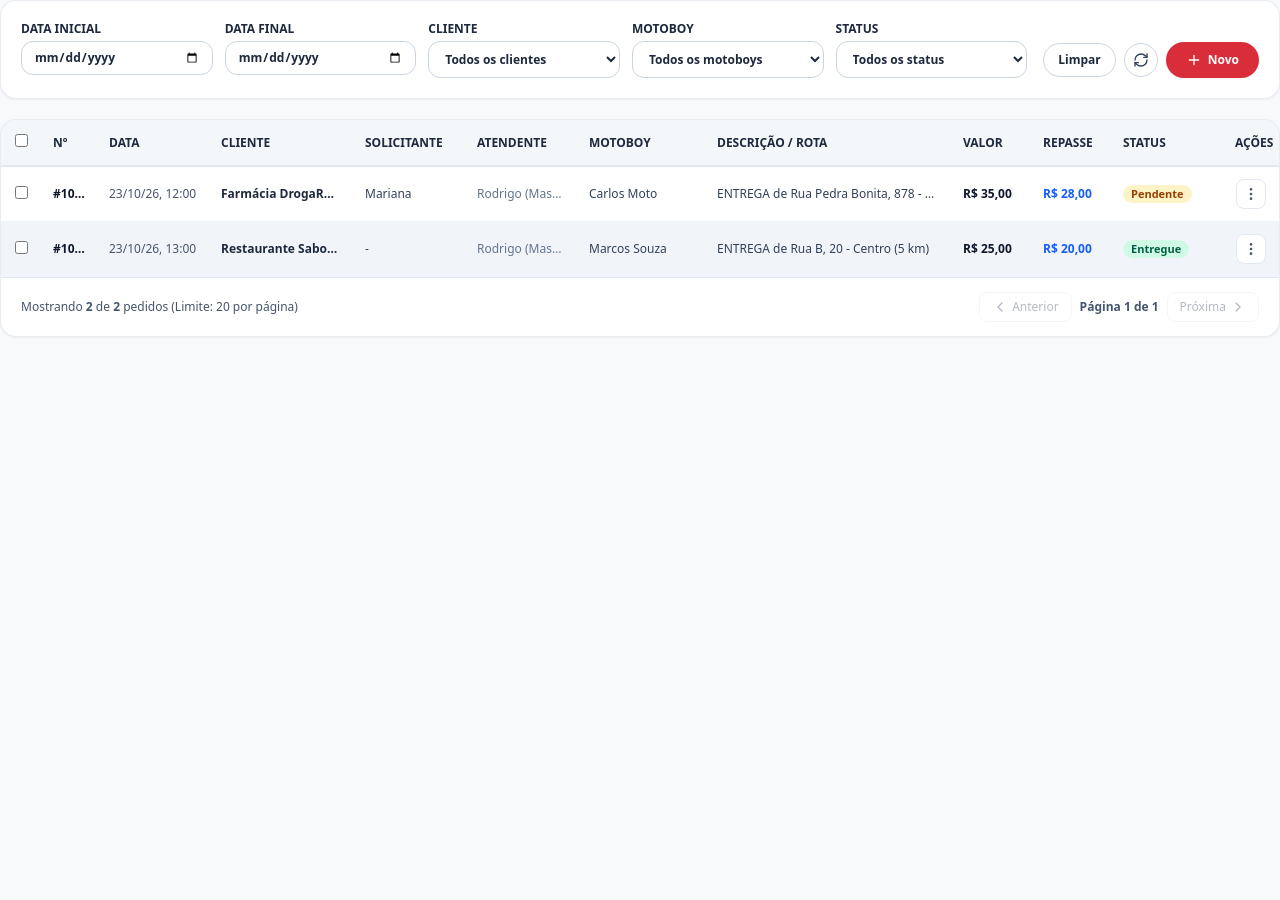
Test case: OrdersScreen › should render filters, display paginated orders with alternating white/gray rows, and separate Solicitante from Atendente in edit modal
The width and height of the screenshot is (1280, 900).
Expected: the text "#1001" is shown, x1=41 y1=166 x2=97 y2=222
Expected: the text "#1026" is shown, x1=41 y1=222 x2=97 y2=276
Click the 3-dots action button on #1026 (where requesterName is undefined)
Click the button with test id "order-actions-trigger-1".
click(1251, 249)  # box x1=1236 y1=234 x2=1266 y2=264
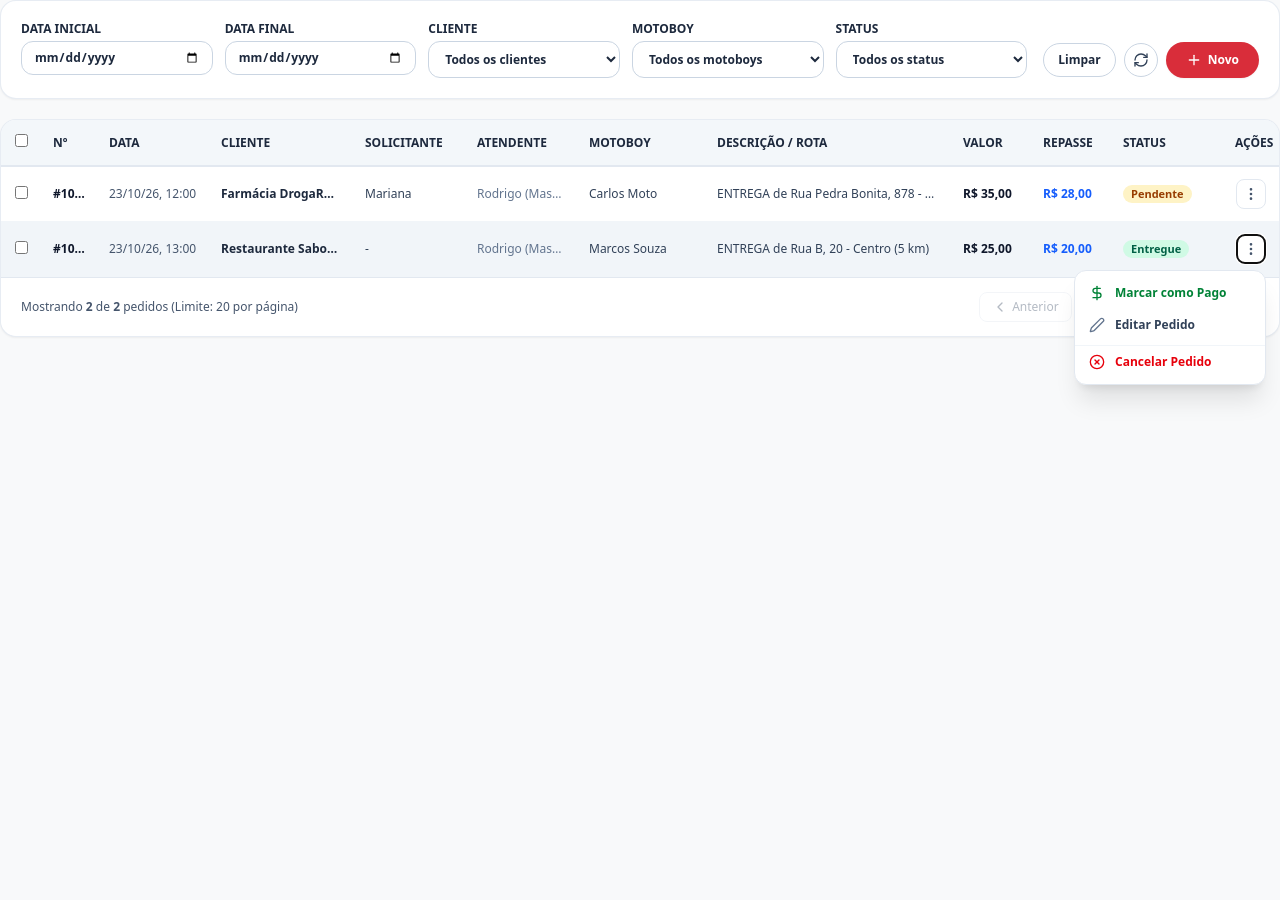
Click the button "Editar Pedido".
click(1170, 325)  # box x1=1075 y1=309 x2=1265 y2=341
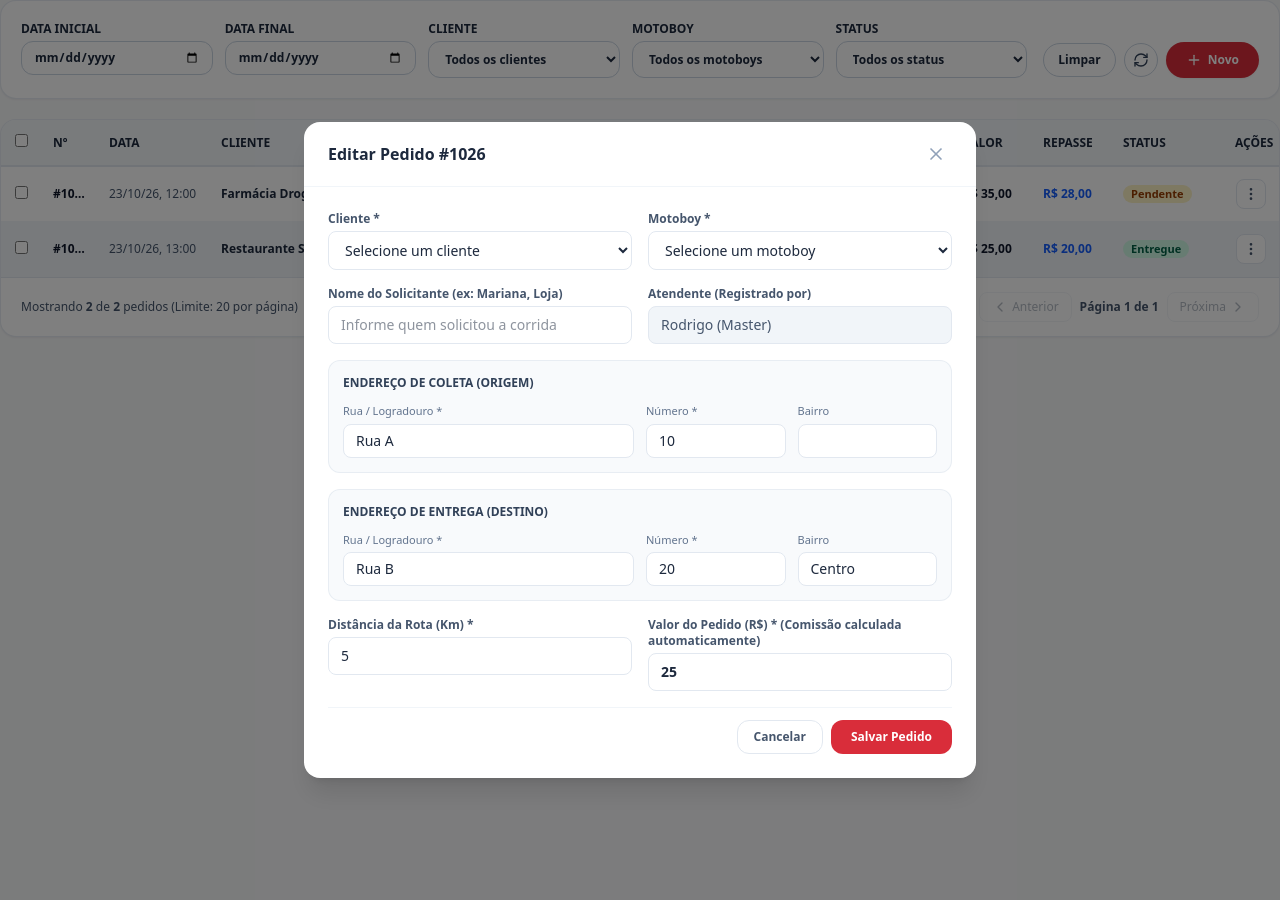
Expected: the field labelled "Nome do Solicitante (ex: Mariana, Loja)" is empty, x1=328 y1=306 x2=632 y2=344
Expected: the field labelled "Atendente (Registrado por)" holds "Rodrigo (Master)", x1=648 y1=306 x2=952 y2=344
